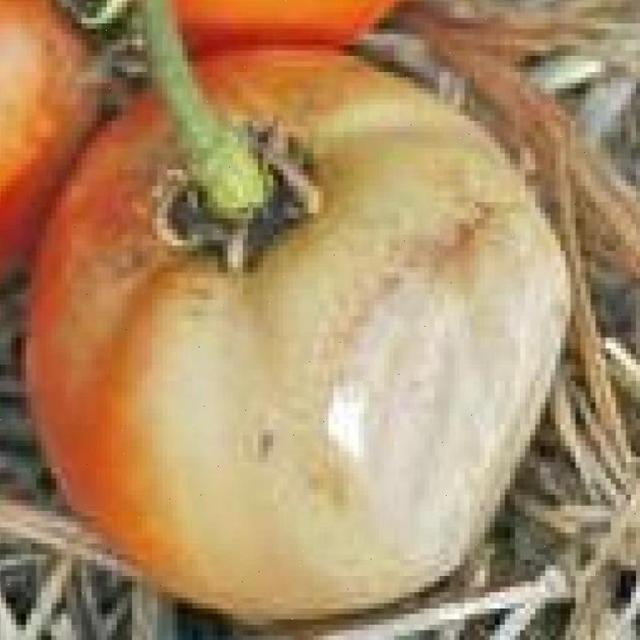Sunscald Fruit: (90, 61, 372, 401)
